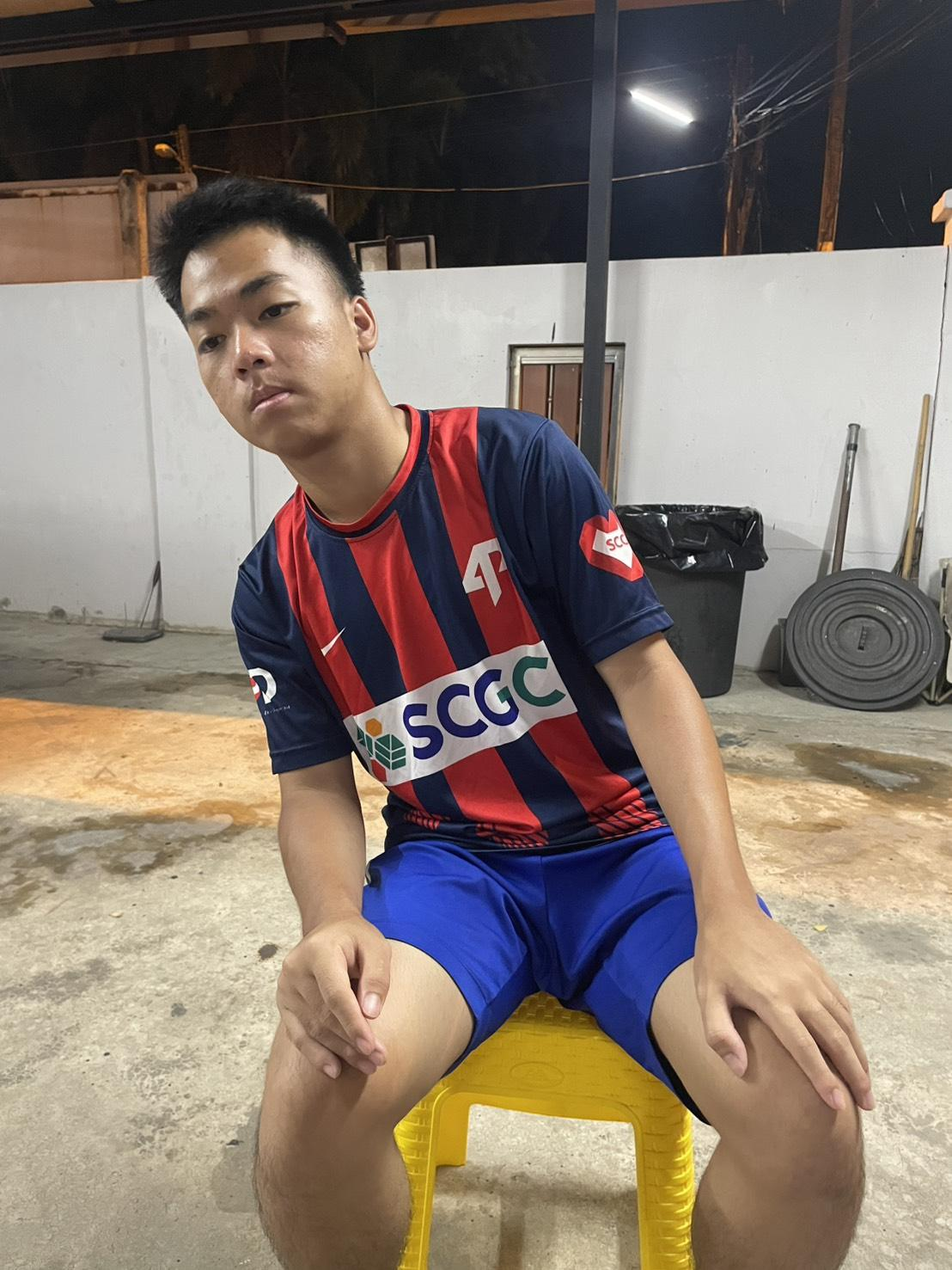BadPosture: (151, 175, 861, 1064), (153, 178, 732, 850), (154, 178, 668, 854)
